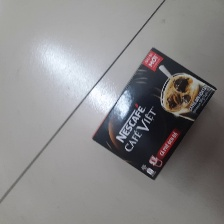CF Viet: (90, 46, 218, 181)
